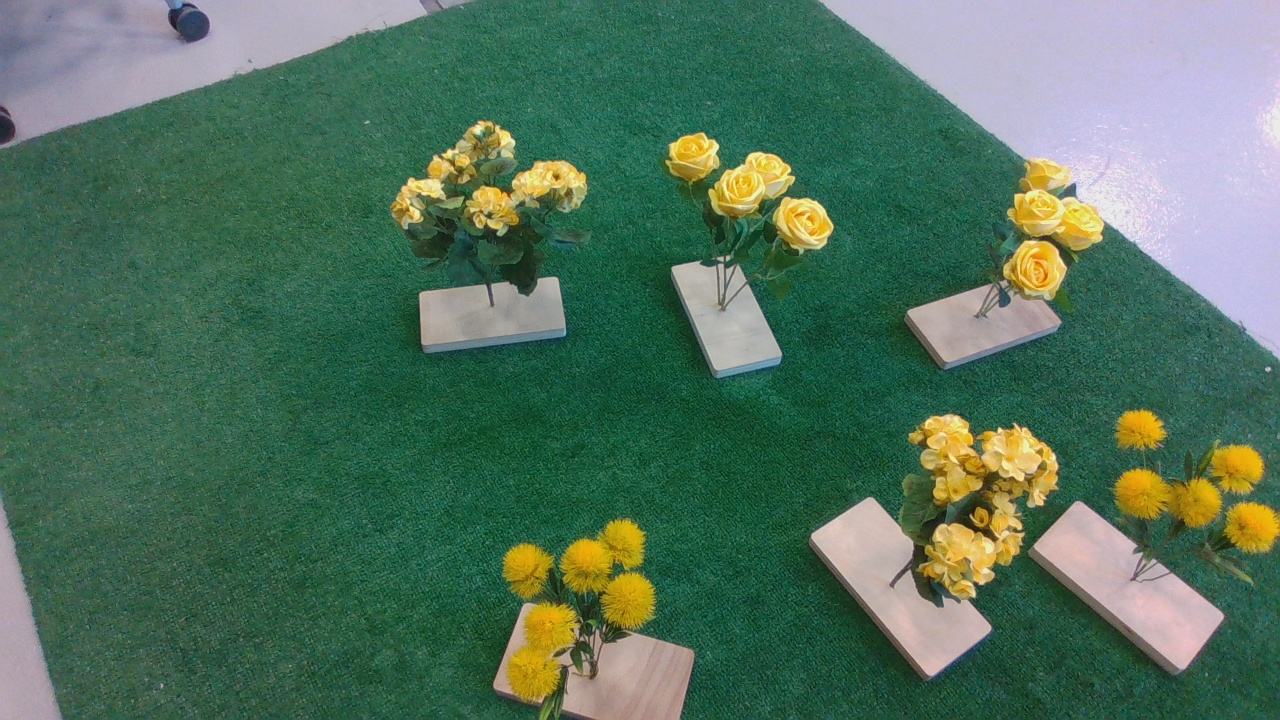dandelion: (500, 506, 671, 720), (1107, 400, 1280, 593)
geranium: (386, 120, 612, 305), (899, 402, 1070, 614)
rose: (657, 125, 845, 291), (985, 147, 1112, 317)
